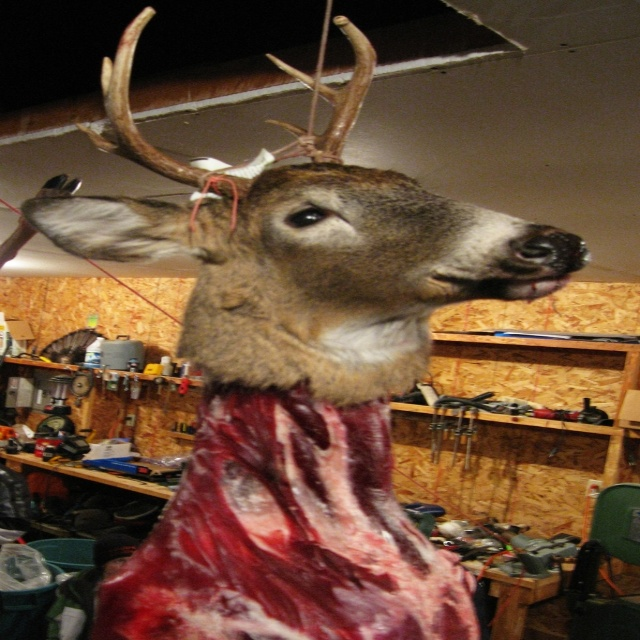Deer: (22, 7, 591, 640)
